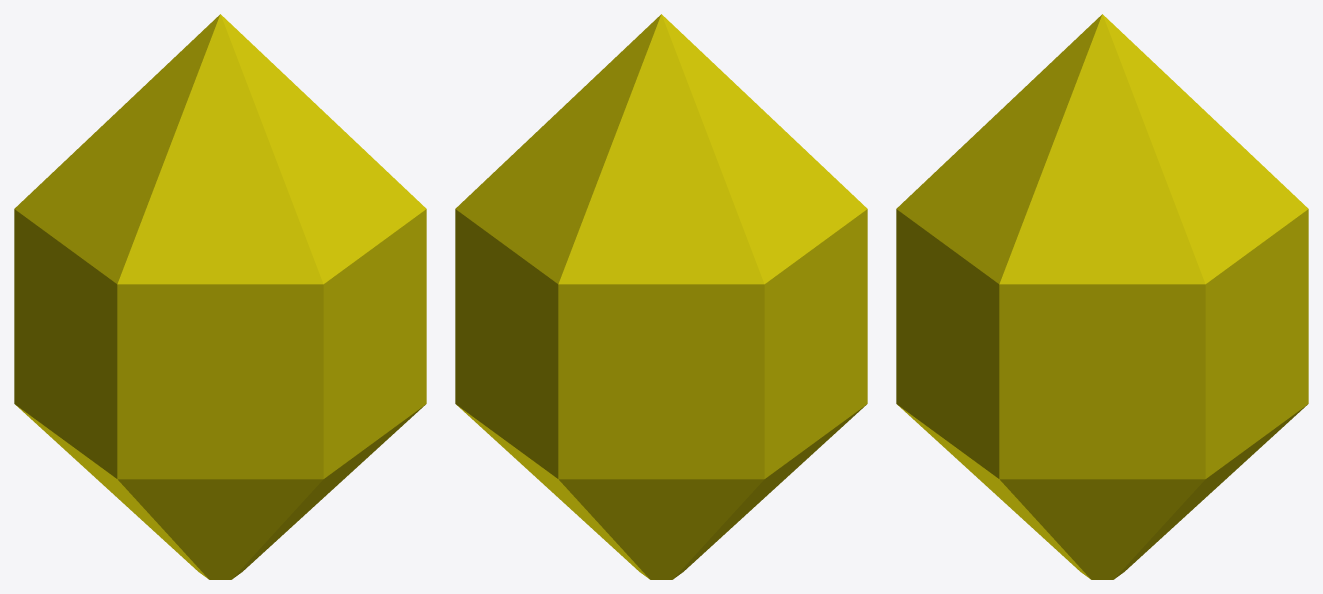
3 views of the same model, side by side, from view 1: azimuth 30°, elevation 25°; view 2: azimuth 150°, elevation 25°; view 3: azimuth 270°, elevation 25° (orthographic).
Visible parts, largest first — view 1: Cylinder_000; view 2: Cylinder_000; view 3: Cylinder_000.
Boxes of the visible parts, x1,y1,x2,y2 form: Cylinder_000: (14, 14, 426, 579); Cylinder_000: (455, 14, 867, 579); Cylinder_000: (896, 14, 1308, 579).
Size of the model in its own units: 26.57 by 30.68 by 45.8.
